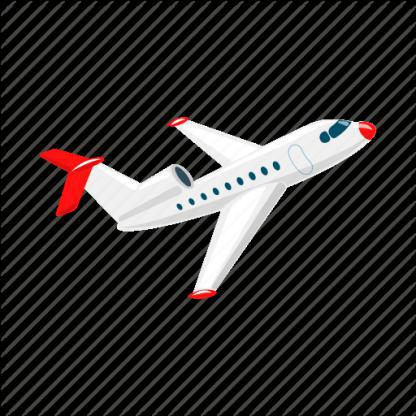CIV_Plane: (31, 104, 379, 315)
